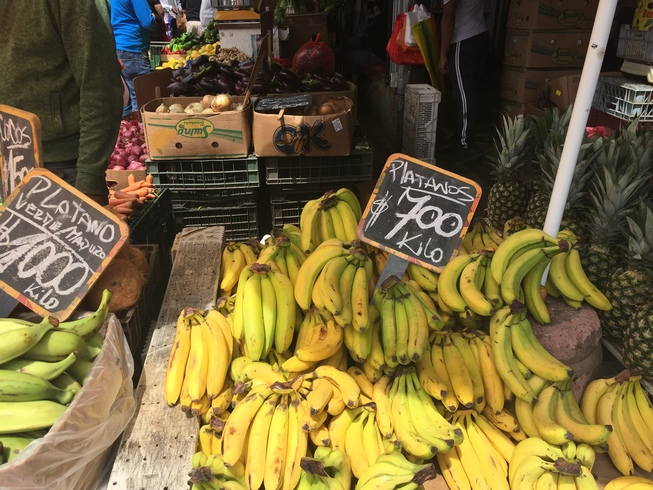precio: (1, 154, 149, 330), (352, 148, 486, 288), (1, 90, 43, 198)
